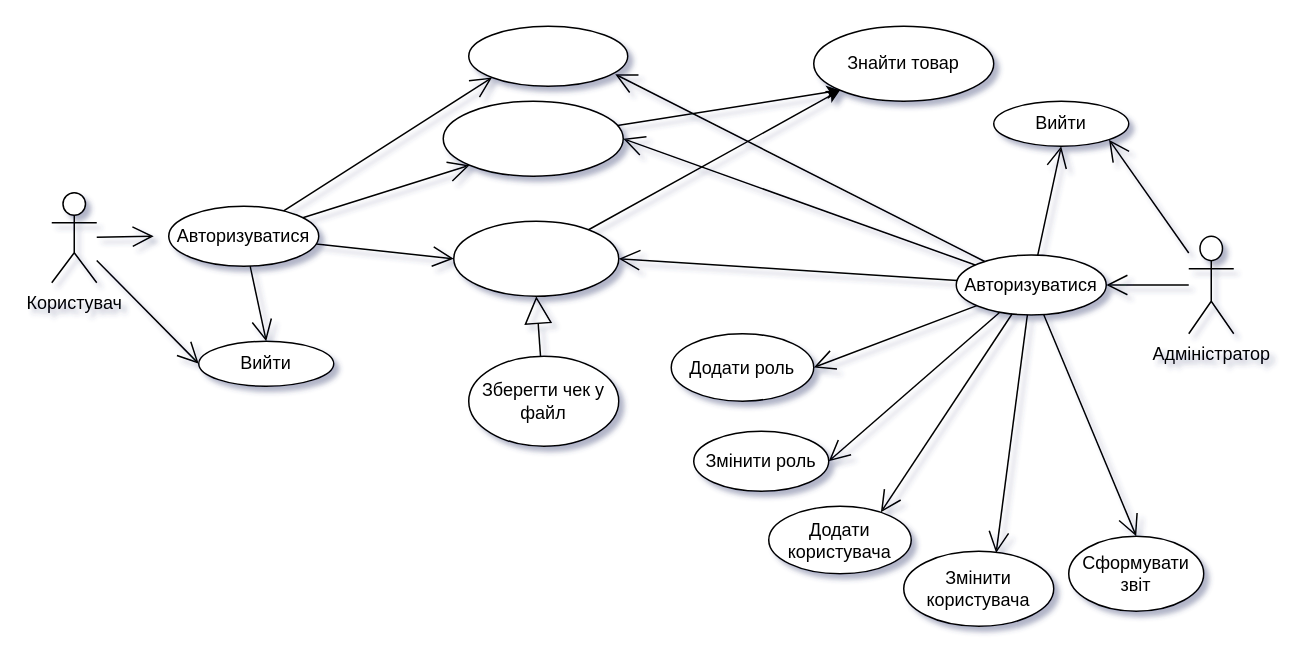
The diagram is 1305 pixels wide and 662 high, and some of its shapes have lost their labels. Here are the shapes that lost their labels. From the top down, the centre of each, then its label:
point 547,55: Додати новий товар
point 532,138: Змінити існуючий товар
point 535,258: Продати товар
